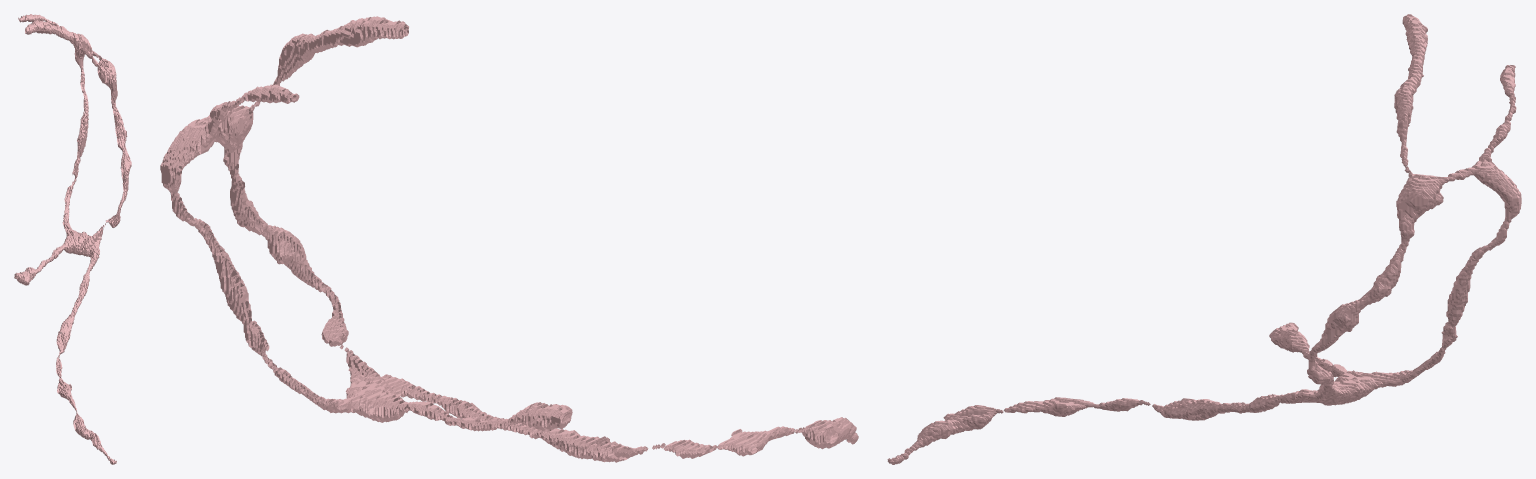
File: SVV_RIBR.gltf
3 views of the same model, side by side, from view 1: azimuth 30°, elevation 25°; view 2: azimuth 150°, elevation 25°; view 3: azimuth 270°, elevation 25° (orthographic). The views are drawn at different scales.
Parts seen in each view (by area): view 1: RIBR; view 2: RIBR; view 3: RIBR.
Part boxes in pixels (<box>): RIBR: <box>14,14,131,464</box>; RIBR: <box>160,16,858,462</box>; RIBR: <box>887,14,1521,464</box>.
Bounding box in the file's own units: 101425 × 169478 × 191882.
